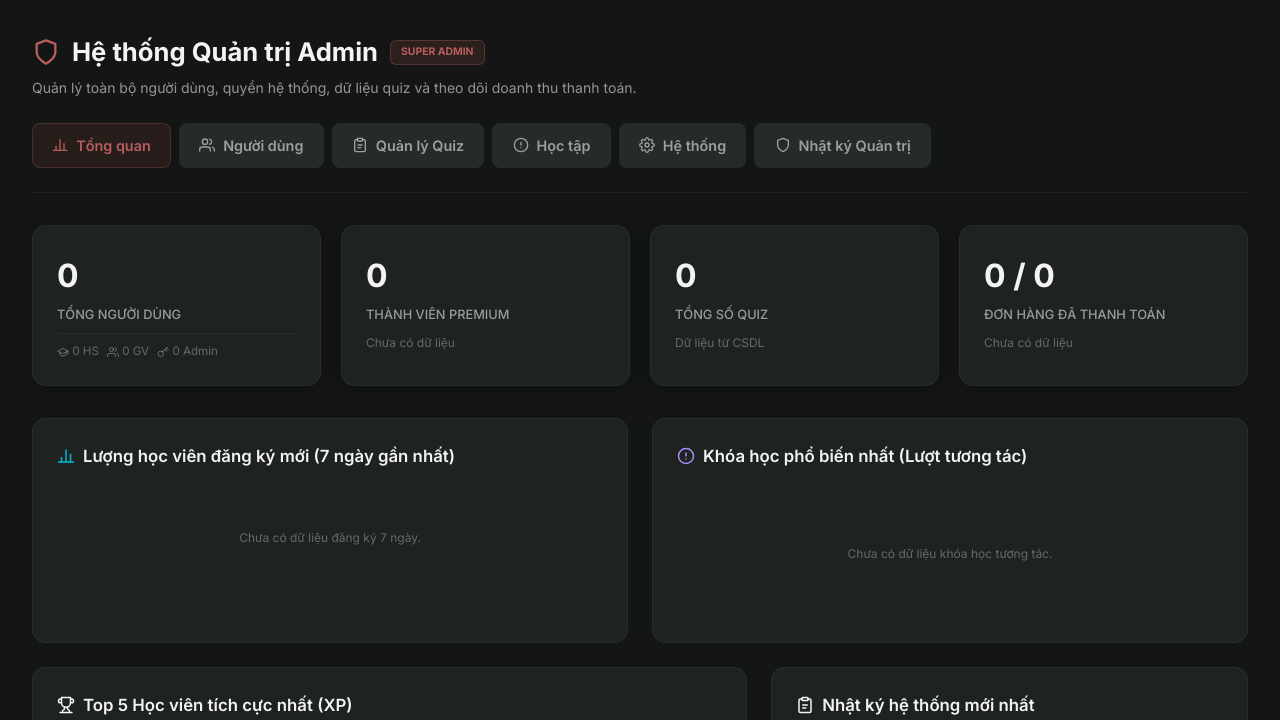
AdminPanelView — P0 Tests › Tab Navigation › switches to "system" tab when clicked
This screenshot has width=1280, height=720.
Click the tab with class "tab-btn" showing "Hệ thống" at (682, 145), box [619,123,746,168]
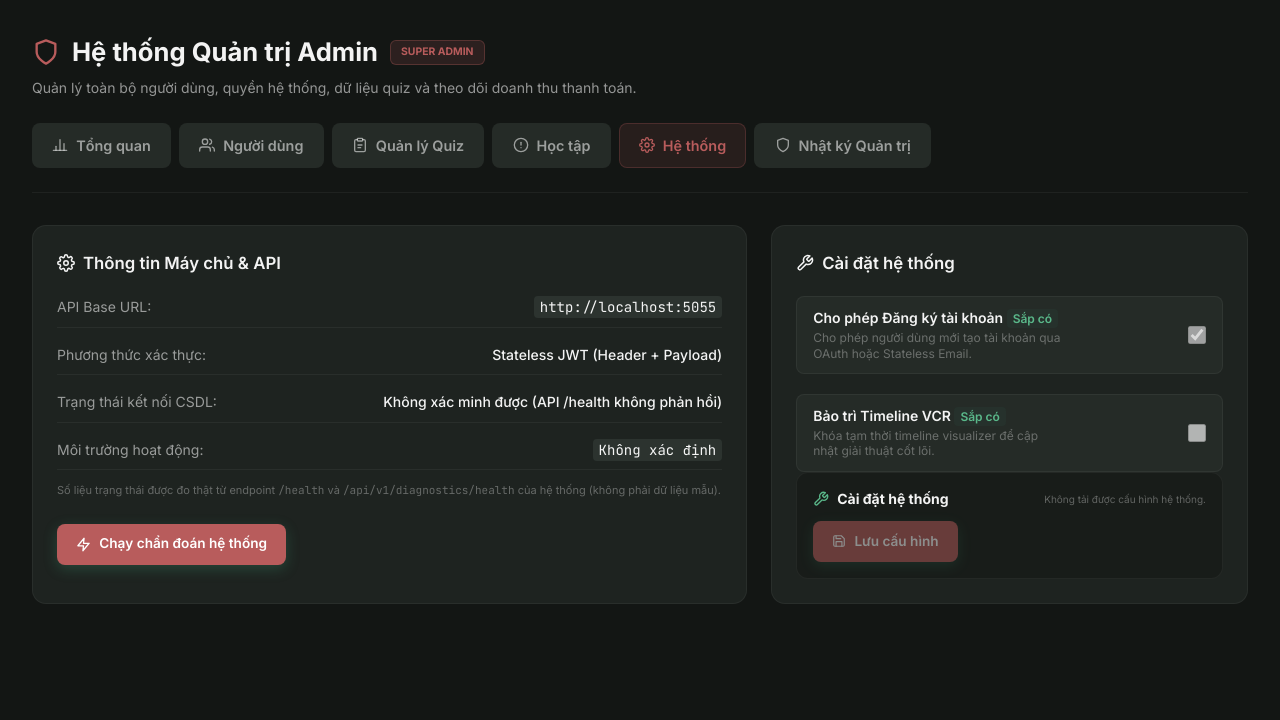
expect the text "Thông tin Máy chủ & API" is shown: met, box [57,253,281,273]
